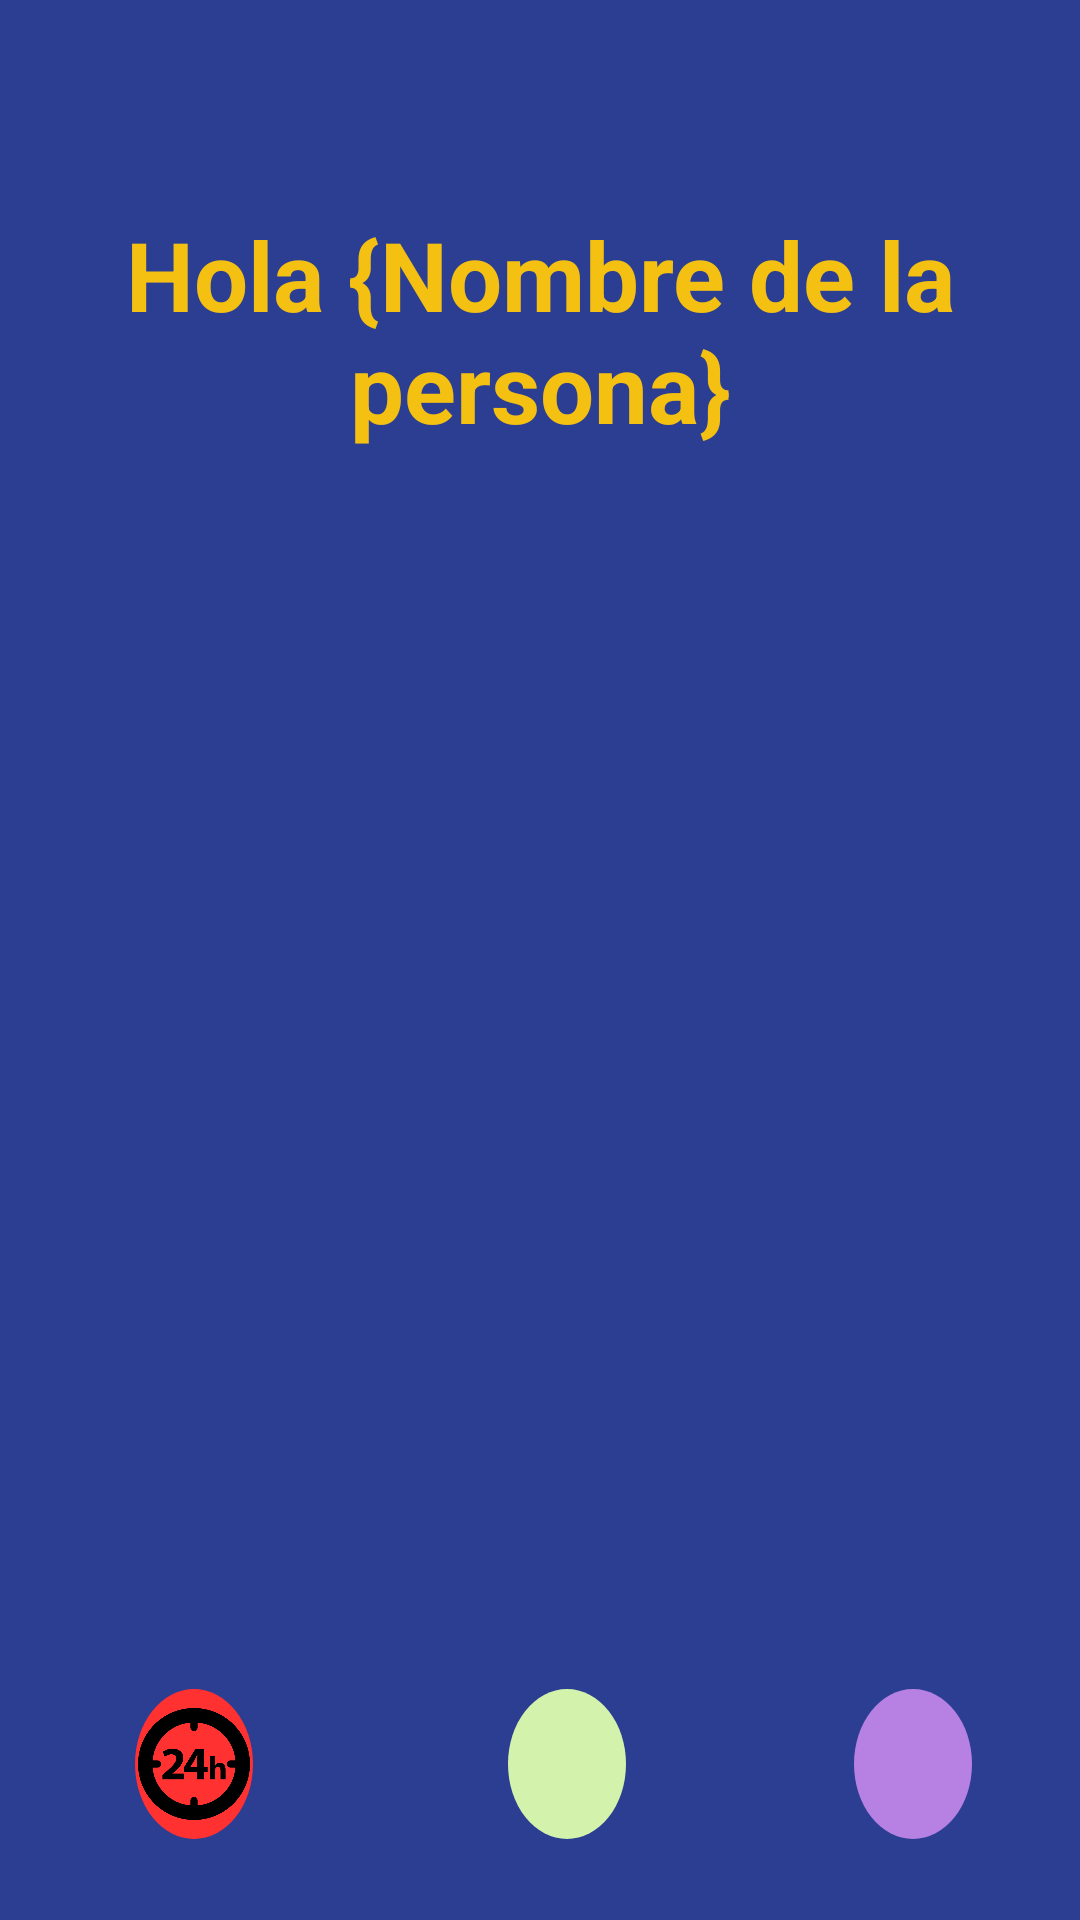

Screen size 1080 x 1920. Icon name, then its center in pixels as point (x, y):
Botón de emergencia: point (194, 1764)
